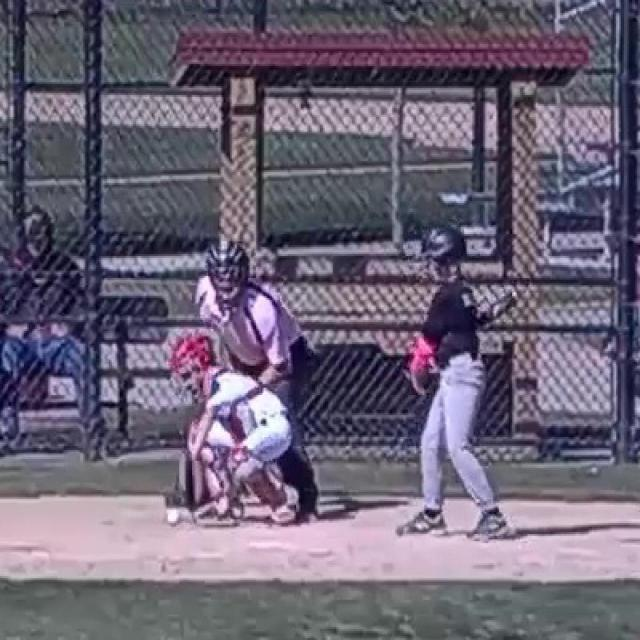baseball: (167, 510, 181, 526)
